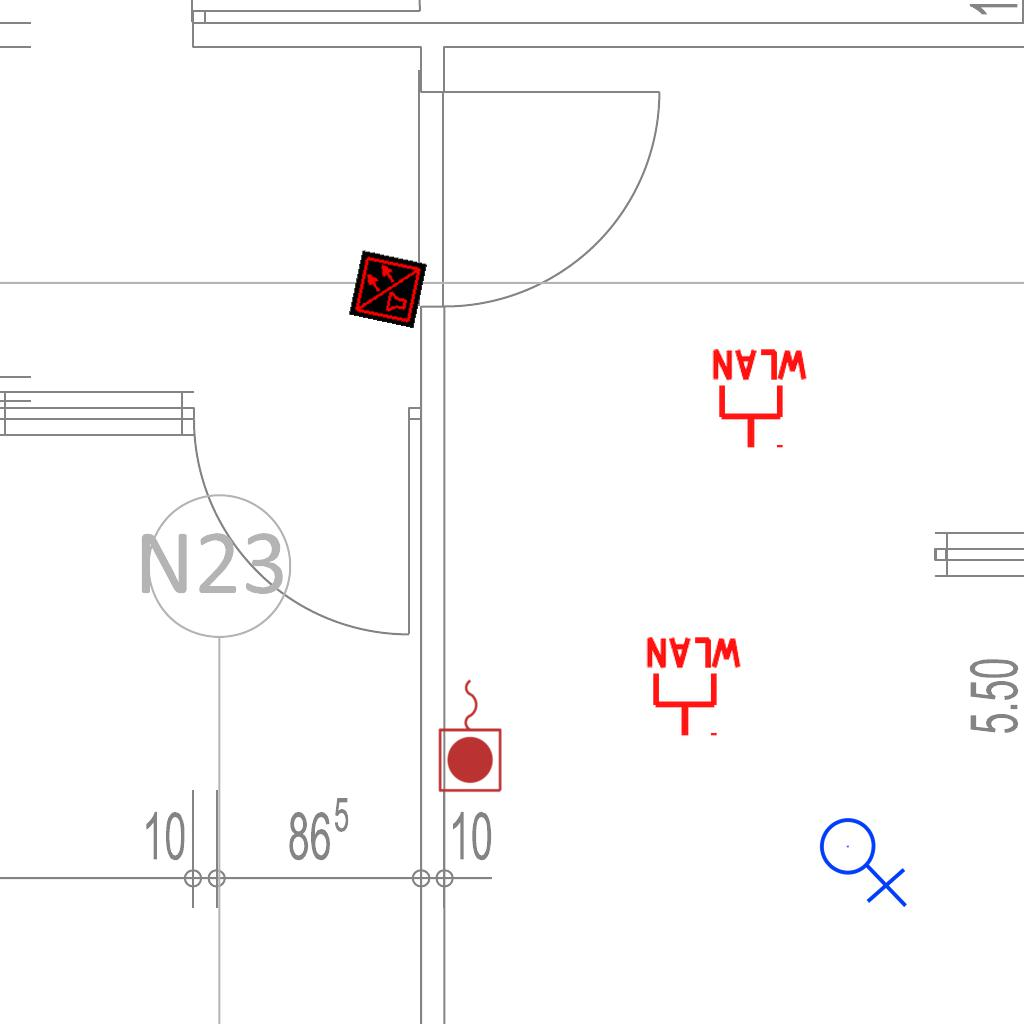Elektroanschluss_allgemein_230V_Geraeteanschlussdose_230V: (818, 809, 912, 908)
OKW_Multisensormelder_(Kombination_optischer_Rauch-Kahlenmonoxid_Waerme-Melder): (348, 249, 428, 329)
WLAN: (642, 635, 746, 740), (708, 347, 812, 452)
Zugtaster: (435, 674, 507, 796)
